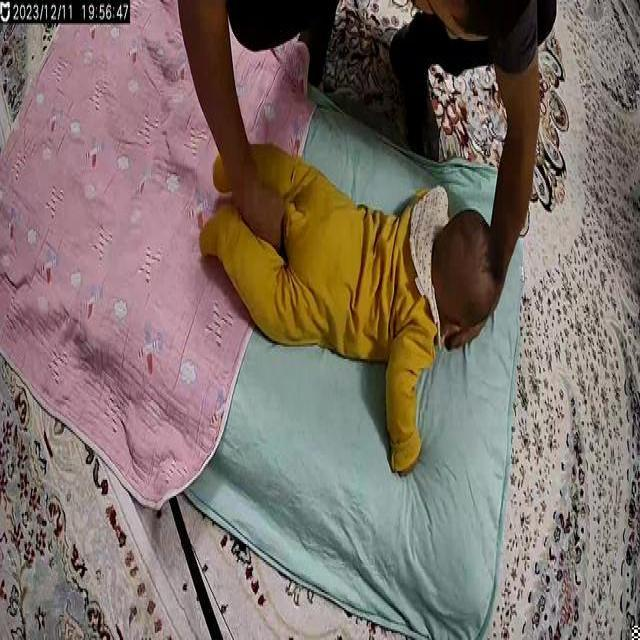baby: (204, 126, 498, 477)
